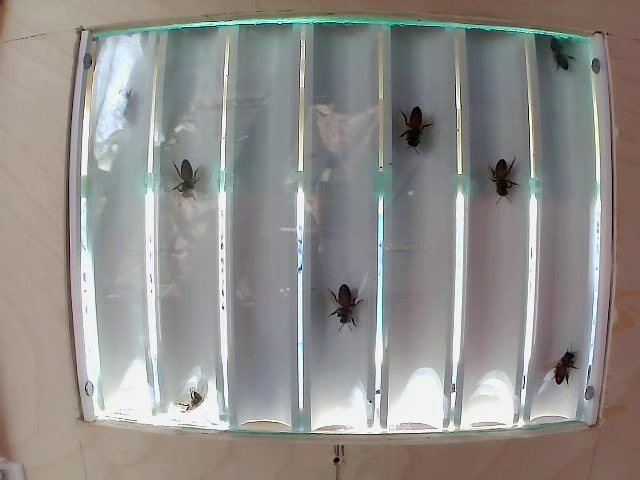bee: (161, 157, 213, 204), (328, 268, 367, 329), (392, 96, 433, 152), (533, 335, 577, 382), (484, 140, 515, 193), (543, 32, 571, 75)
